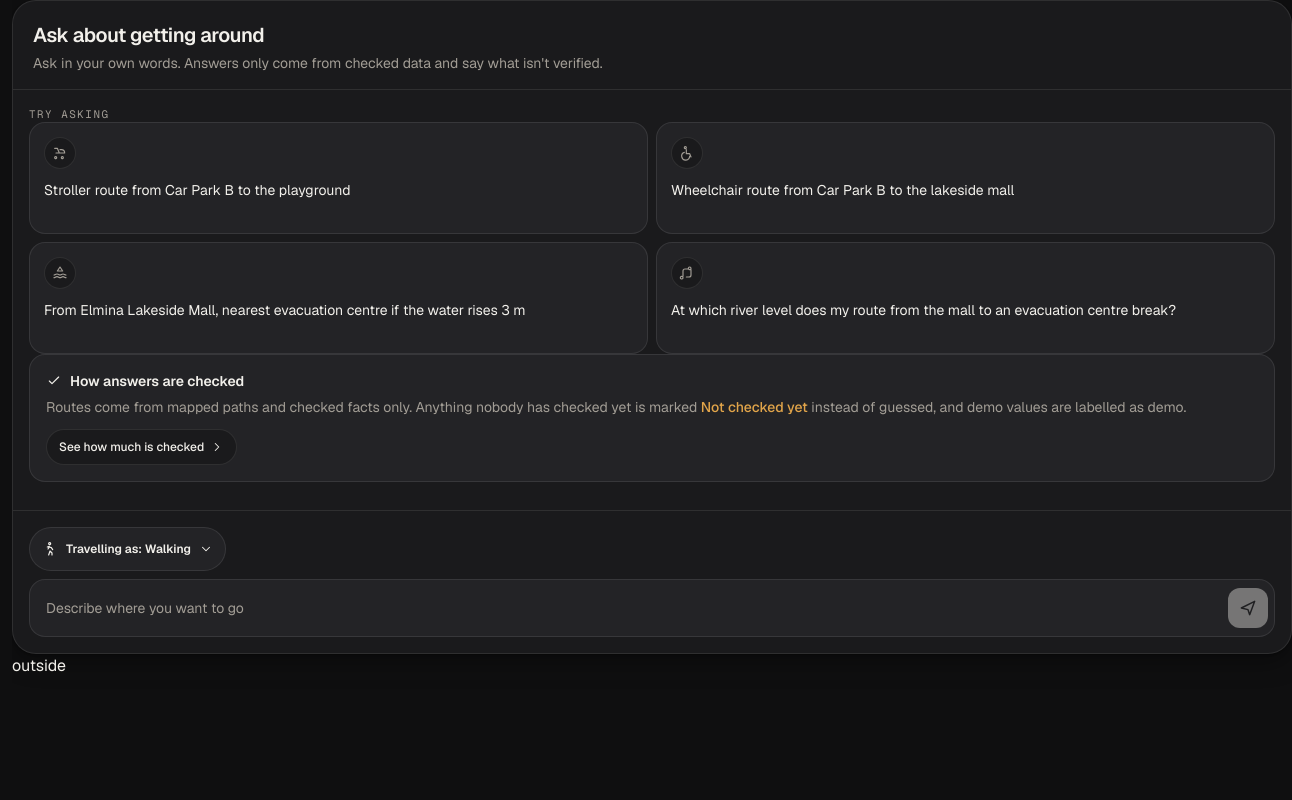
it: AssistantPanel › Travelling-as keyboard pattern › tabbing away closes the list
Click the button "Travelling as: Walking": coordinates (128, 549) 29,527 -> 226,571
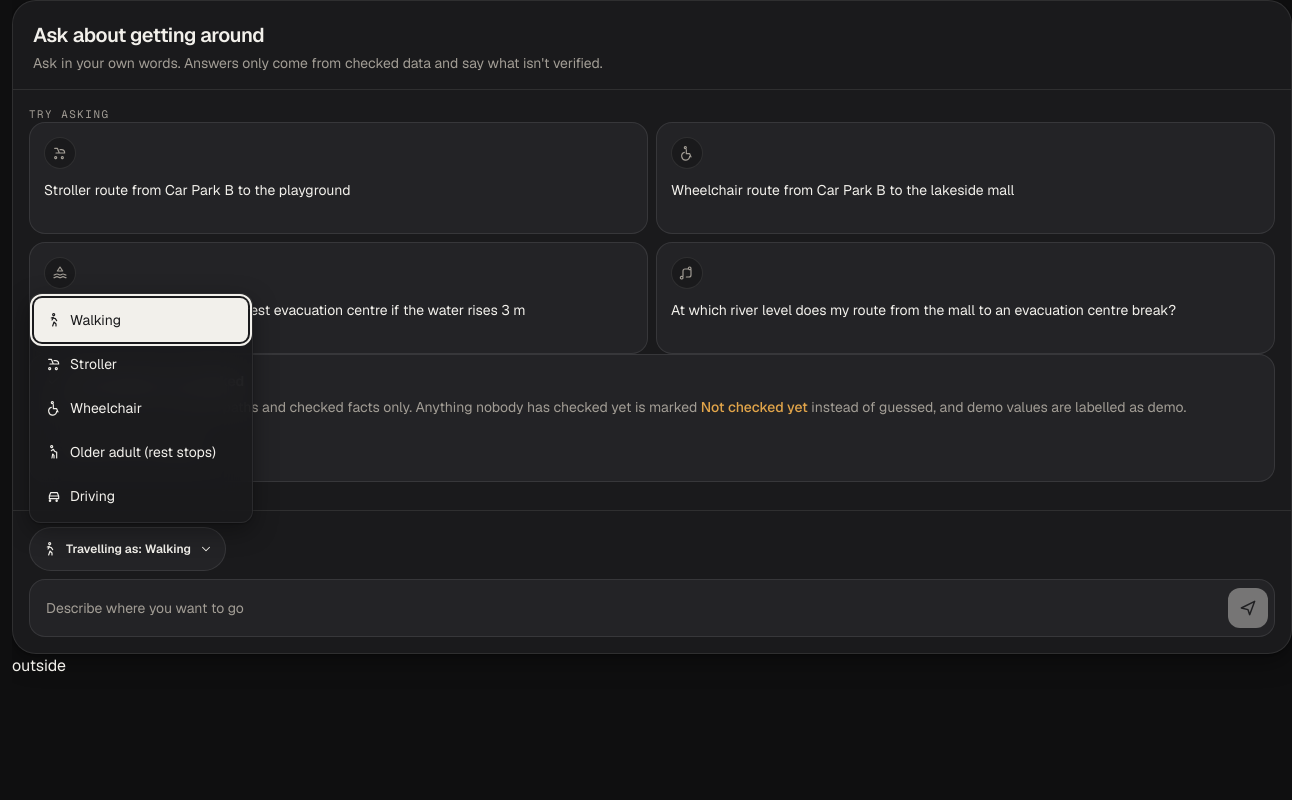
Leave the option "Walking", box 34,298 -> 248,342
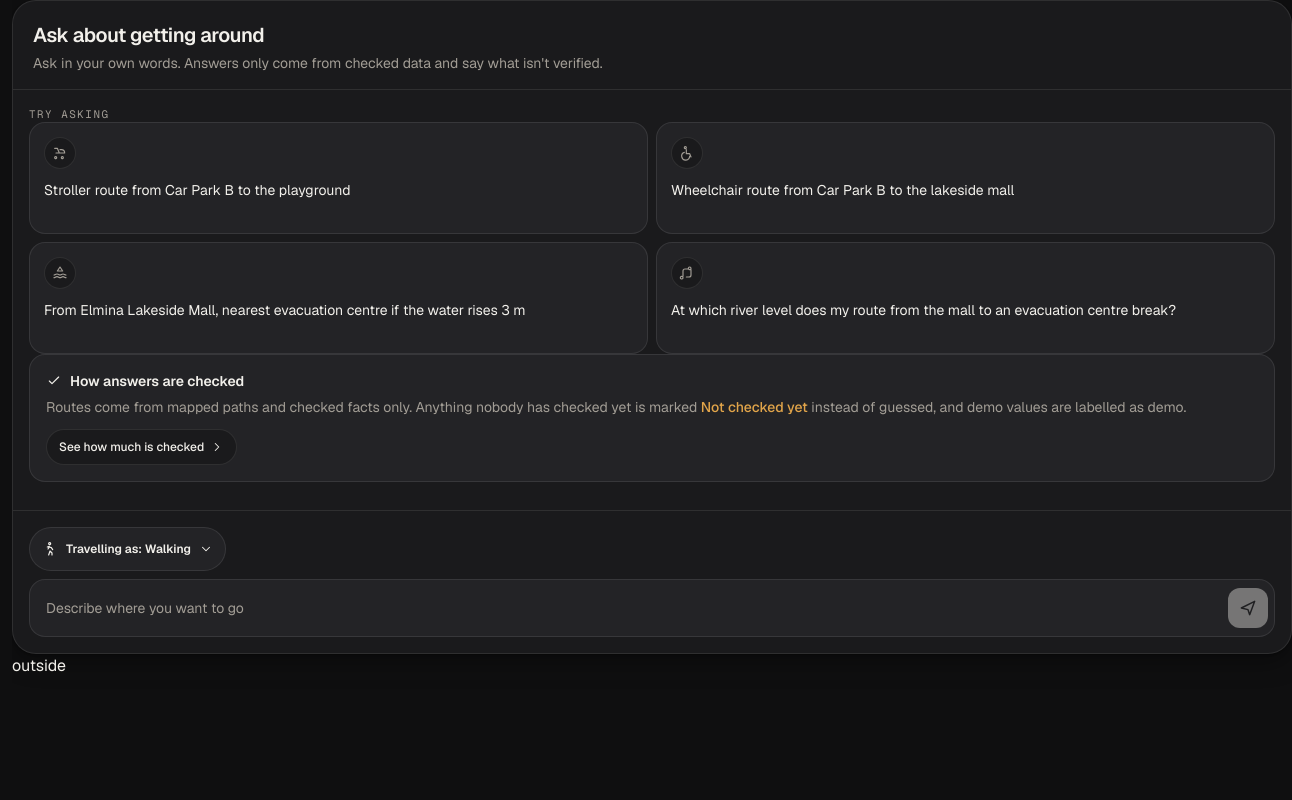
Now the list "Walking Stroller Wheelchair Older adult (rest stops) Driving" is gone
